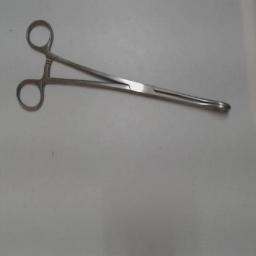Sponge Forceps: (12, 16, 238, 120)
